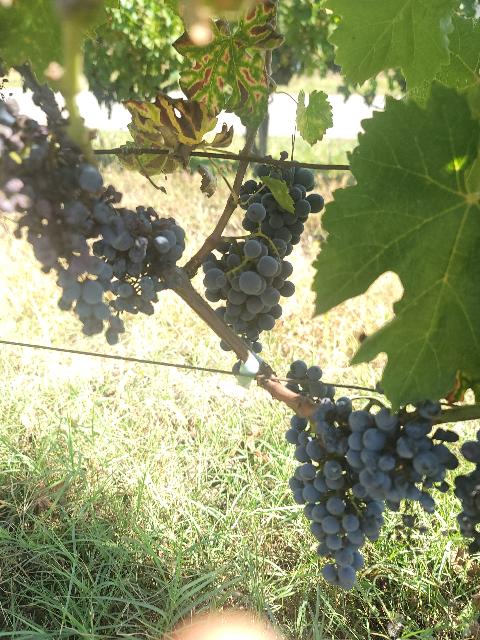grapes: (285, 415, 384, 590), (335, 401, 459, 510), (202, 238, 295, 352), (240, 165, 325, 256)
